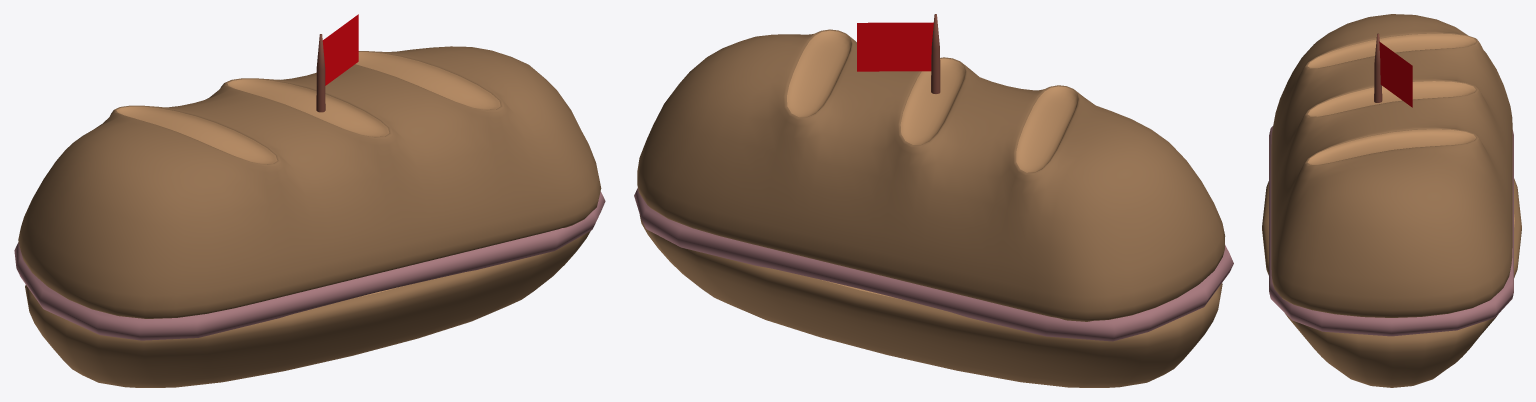
Rendered from SandyTunaSamich.fbx.
3 renders of one model, left to right at view 1: azimuth 30°, elevation 25°; view 2: azimuth 150°, elevation 25°; view 3: azimuth 270°, elevation 25°, orthographic. The views are drawn at different scales.
Parts seen in each view (by area): view 1: SandyTunaSamich; view 2: SandyTunaSamich; view 3: SandyTunaSamich.
Part boxes in pixels (box(x1,y1,x2,y2)): SandyTunaSamich: box(14, 14, 605, 387); SandyTunaSamich: box(634, 14, 1233, 387); SandyTunaSamich: box(1262, 14, 1521, 387).
Bounding box in the file's own units: 459 × 247 × 217.
